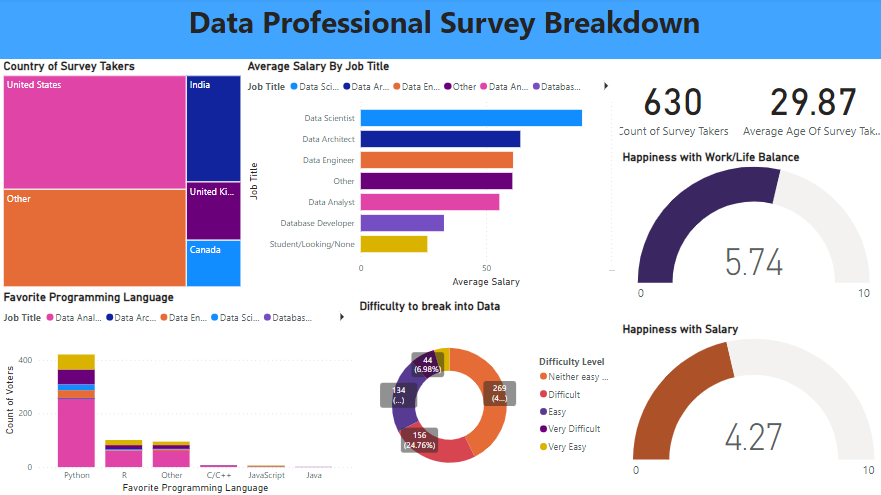

The dashboard page shown, as its layout file describes it:
{"tool":"powerbi","page":{"name":"Page 1","canvas":[1280,720],"ordinal":0},"visuals":[{"type":"textbox","box":[0,0,1280,87.9],"z":0},{"type":"card","fields":{"Values":["Count(Data Professional Survey.Unique ID)"]},"box":[875.4,87.9,185.7,131],"z":1000},{"type":"card","fields":{"Values":["Avg(Data Professional Survey.Q10 - Current Age)"]},"box":[1061.1,87.9,218.9,131],"z":2000},{"type":"barChart","title":"Average Salary By Job Title","fields":{"Category":["Data Professional Survey.Q1 - Which Title Best Fits your Current Role?.1"],"Y":["Avg(Data Professional Survey.Average Salary)"],"Series":["Data Professional Survey.Q1 - Which Title Best Fits your Current Role?.1"]},"box":[351.5,87.9,540.5,333.3],"z":3000},{"type":"columnChart","title":"Favorite Programming Language","fields":{"Category":["Data Professional Survey.Q5 - Favorite Programming Language.1"],"Y":["CountNonNull(Data Professional Survey.Unique ID)"],"Series":["Data Professional Survey.Q1 - Which Title Best Fits your Current Role?.1"]},"box":[0,421.1,512.3,298.4],"z":4000},{"type":"treemap","title":"Country of Survey Takers","fields":{"Group":["Data Professional Survey.Q11 - Which Country do you live in?.1"],"Values":["CountNonNull(Data Professional Survey.Q11 - Which Country do you live in?.1)"]},"box":[0,87.9,351.5,333.3],"z":5000},{"type":"gauge","title":"Happiness with Work/Life Balance","fields":{"Y":["Avg(Data Professional Survey.Q6 - How Happy are you in your Current Position with the following? (Work/Life Balance))"],"MaxValue":["Max(Data Professional Survey.Q6 - How Happy are you in your Current Position with the following? (Work/Life Balance))1"],"MinValue":["Min(Data Professional Survey.Q6 - How Happy are you in your Current Position with the following? (Work/Life Balance))"]},"box":[892,218.9,388,227.2],"z":6000},{"type":"gauge","title":"Happiness with Salary","fields":{"Y":["Avg(Data Professional Survey.Q6 - How Happy are you in your Current Position with the following? (Salary))"],"MinValue":["Min(Data Professional Survey.Q6 - How Happy are you in your Current Position with the following? (Salary))"],"MaxValue":["Max(Data Professional Survey.Q6 - How Happy are you in your Current Position with the following? (Salary))1"]},"box":[892,465.9,388,233.8],"z":7000},{"type":"donutChart","title":"Difficulty to break into Data","fields":{"Category":["Data Professional Survey.Q7 - How difficult was it for you to break into Data?"],"Y":["CountNonNull(Data Professional Survey.Q7 - How difficult was it for you to break into Data?)"],"Series":["Data Professional Survey.Q7 - How difficult was it for you to break into Data?"]},"box":[512.3,432.7,379.7,286.8],"z":8000}]}

Visuals, with their boxes in screenshot pixels (x1, y1, x2, y2), scaled from the page's 1280x720 canvas onto the 881x495 screenshot:
textbox: {"left": 0, "top": 0, "right": 880, "bottom": 60}
card - Count(Data Professional Survey.Unique ID): {"left": 603, "top": 60, "right": 730, "bottom": 150}
card - Avg(Data Professional Survey.Q10 - Current Age): {"left": 730, "top": 60, "right": 880, "bottom": 150}
"Average Salary By Job Title" barChart: {"left": 242, "top": 60, "right": 614, "bottom": 290}
"Favorite Programming Language" columnChart: {"left": 0, "top": 290, "right": 353, "bottom": 494}
"Country of Survey Takers" treemap: {"left": 0, "top": 60, "right": 242, "bottom": 290}
"Happiness with Work/Life Balance" gauge: {"left": 614, "top": 150, "right": 880, "bottom": 307}
"Happiness with Salary" gauge: {"left": 614, "top": 320, "right": 880, "bottom": 481}
"Difficulty to break into Data" donutChart: {"left": 353, "top": 297, "right": 614, "bottom": 494}
